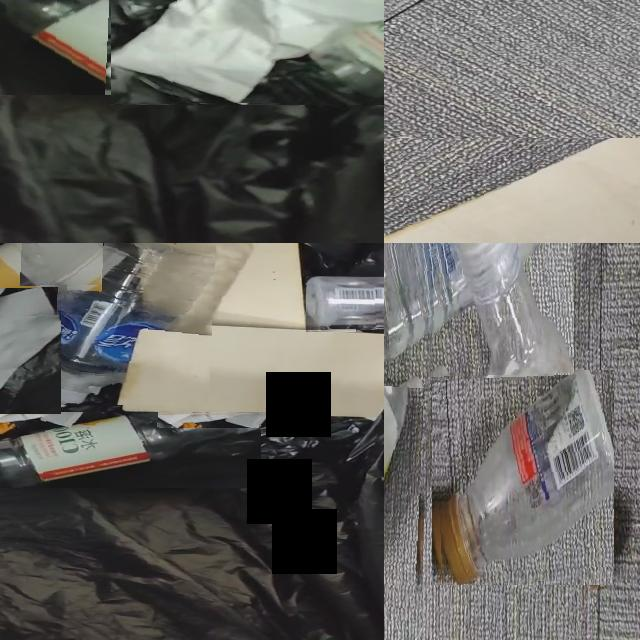bottle: (438, 370, 614, 584), (42, 243, 215, 405), (0, 0, 227, 95), (384, 243, 538, 374), (0, 412, 260, 488), (384, 243, 437, 479), (308, 277, 384, 329)
carton: (384, 138, 640, 243)
dixie_cup: (0, 243, 68, 309)
paper: (111, 0, 384, 104), (0, 290, 61, 389), (24, 243, 103, 287), (158, 414, 266, 428), (307, 306, 356, 331)
